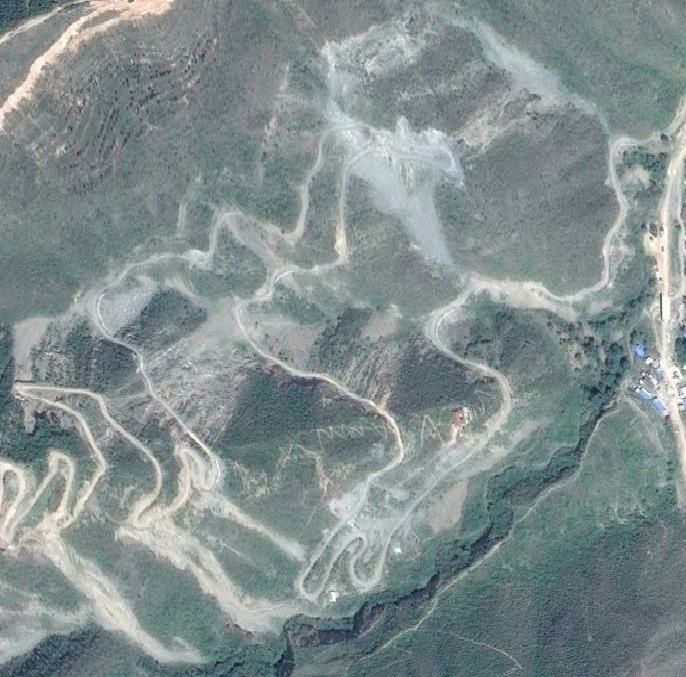slope: (41, 535, 208, 667), (121, 519, 281, 638), (347, 156, 459, 270)
